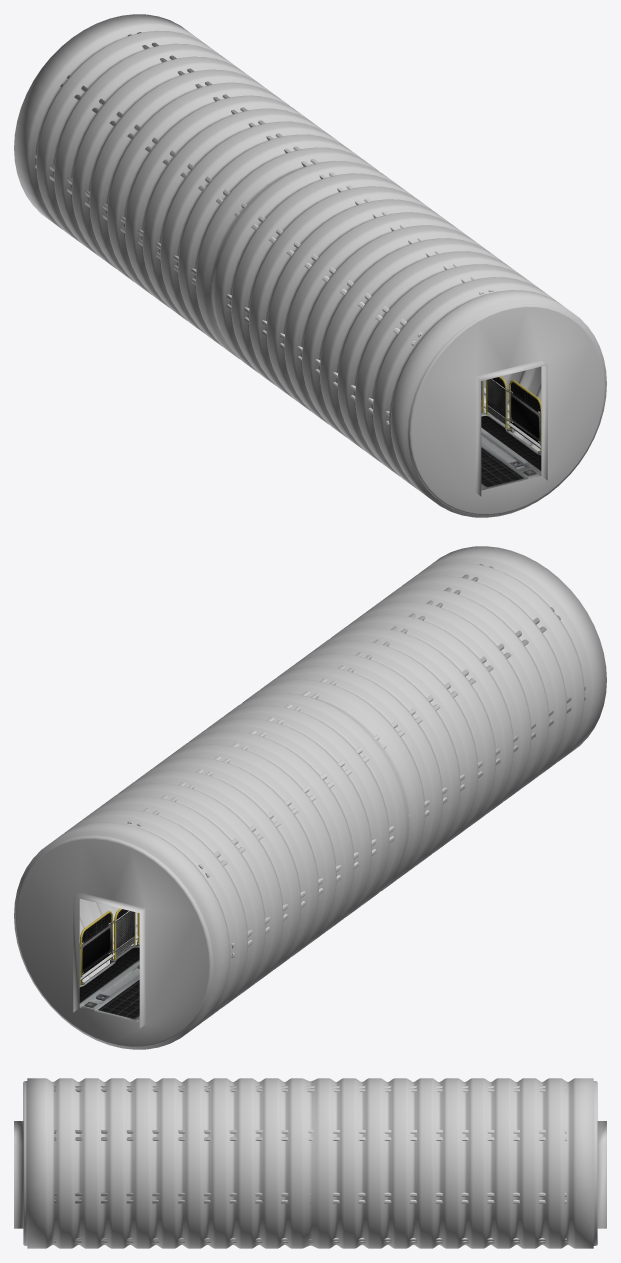
The model's file is Room2_1R_HCZ.fbx.
3 views of the same model, one above another, from view 1: azimuth 30°, elevation 25°; view 2: azimuth 150°, elevation 25°; view 3: azimuth 270°, elevation 25° (orthographic). The views are drawn at different scales.
Visible parts, largest first — view 1: Tube, Beams, CatwalkMesh, Rail, Catwalk, RailMesh; view 2: Tube, Beams, CatwalkMesh, Rail, Catwalk, RailMesh; view 3: Tube, Beams.
Part boxes in pixels (<box>): Tube: <box>14,14,606,517</box>; Beams: <box>35,32,540,448</box>; CatwalkMesh: <box>481,416,541,486</box>; Rail: <box>481,376,541,454</box>; Catwalk: <box>481,408,541,490</box>; RailMesh: <box>481,377,540,448</box>; Tube: <box>14,546,606,1049</box>; Beams: <box>80,564,585,979</box>; CatwalkMesh: <box>79,947,139,1018</box>; Rail: <box>79,908,139,986</box>; Catwalk: <box>79,941,139,1022</box>; RailMesh: <box>82,909,134,979</box>; Tube: <box>14,1078,606,1248</box>; Beams: <box>54,1086,566,1243</box>.
Bounding box in the file's own units: 5.89 × 5.88 × 20.48.
